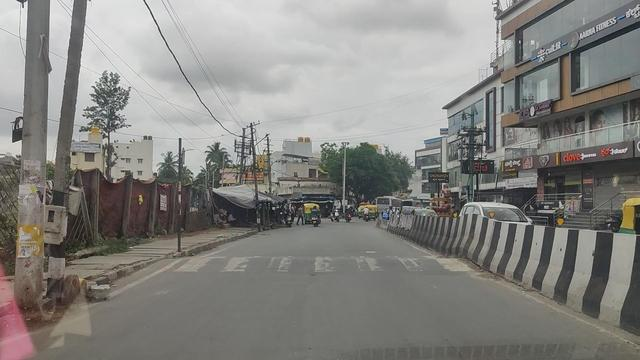SpeedBump: (167, 254, 479, 275)
